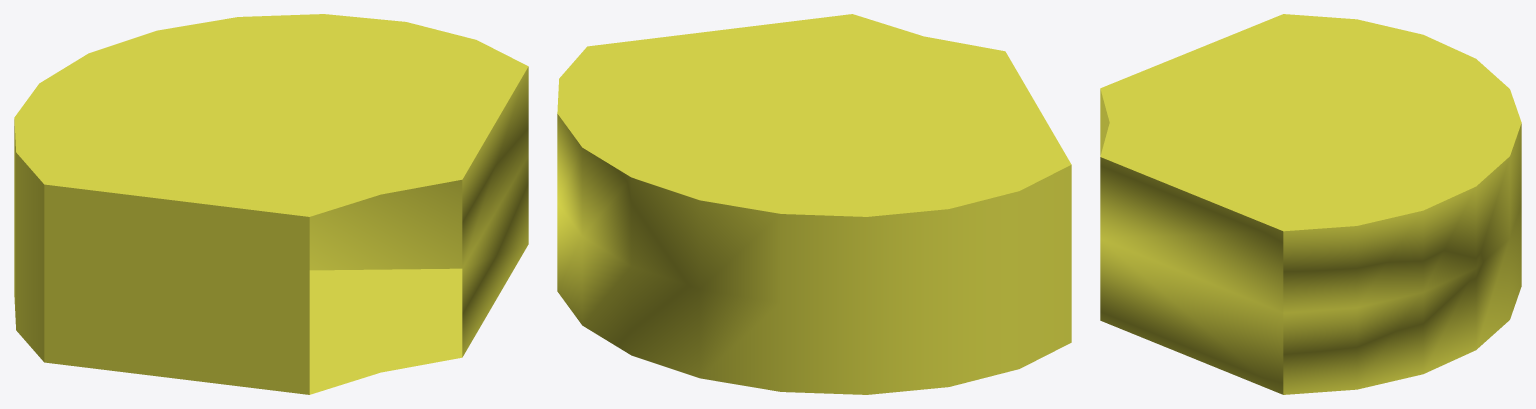
File: coneShapeC.fbx
3 views of the same model, side by side, from view 1: azimuth 30°, elevation 25°; view 2: azimuth 150°, elevation 25°; view 3: azimuth 270°, elevation 25° (orthographic). The views are drawn at different scales.
Visible parts, largest first — view 1: pCylinder1; view 2: pCylinder1; view 3: pCylinder1.
Boxes of the visible parts, box(x1,y1,x2,y2) form: pCylinder1: box(14, 14, 528, 394); pCylinder1: box(557, 14, 1071, 394); pCylinder1: box(1100, 14, 1521, 394).
Size of the model in its own units: 1.82 by 0.6388 by 1.49.
